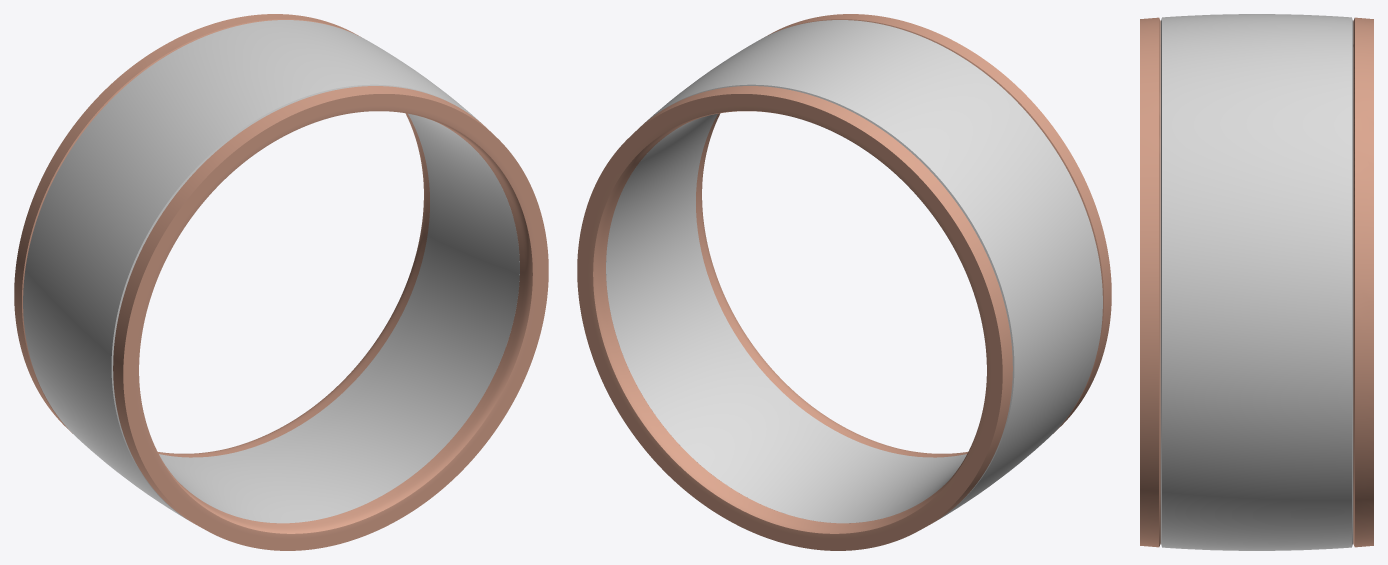
Rendered from Rosanna_his_WB_blender.glb.
The picture shows the model from 3 angles, left to right: view 1: azimuth 30°, elevation 25°; view 2: azimuth 150°, elevation 25°; view 3: azimuth 270°, elevation 25°; orthographic projection. The views are drawn at different scales.
Visible parts, largest first — view 1: v2 alex PT for 3d model, v2 alex RG for 3d model; view 2: v2 alex PT for 3d model, v2 alex RG for 3d model; view 3: v2 alex PT for 3d model, v2 alex RG for 3d model.
Part boxes in pixels (x1=…): v2 alex PT for 3d model: x1=23, y1=20, x2=519, y2=523; v2 alex RG for 3d model: x1=14, y1=14, x2=548, y2=550; v2 alex PT for 3d model: x1=606, y1=20, x2=1102, y2=523; v2 alex RG for 3d model: x1=577, y1=14, x2=1111, y2=550; v2 alex PT for 3d model: x1=1160, y1=14, x2=1353, y2=550; v2 alex RG for 3d model: x1=1140, y1=17, x2=1373, y2=547.
Bounding box in the file's own units: 25.49 × 25.49 × 11.1.
